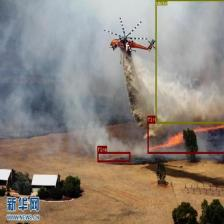fire: (147, 122, 224, 153), (97, 152, 130, 162)
smoke: (154, 0, 224, 123)
